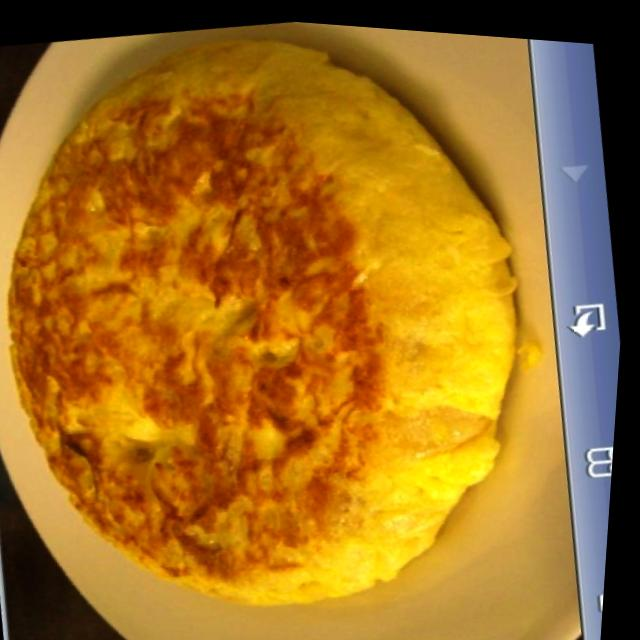面包点心: (0, 2, 592, 619)
